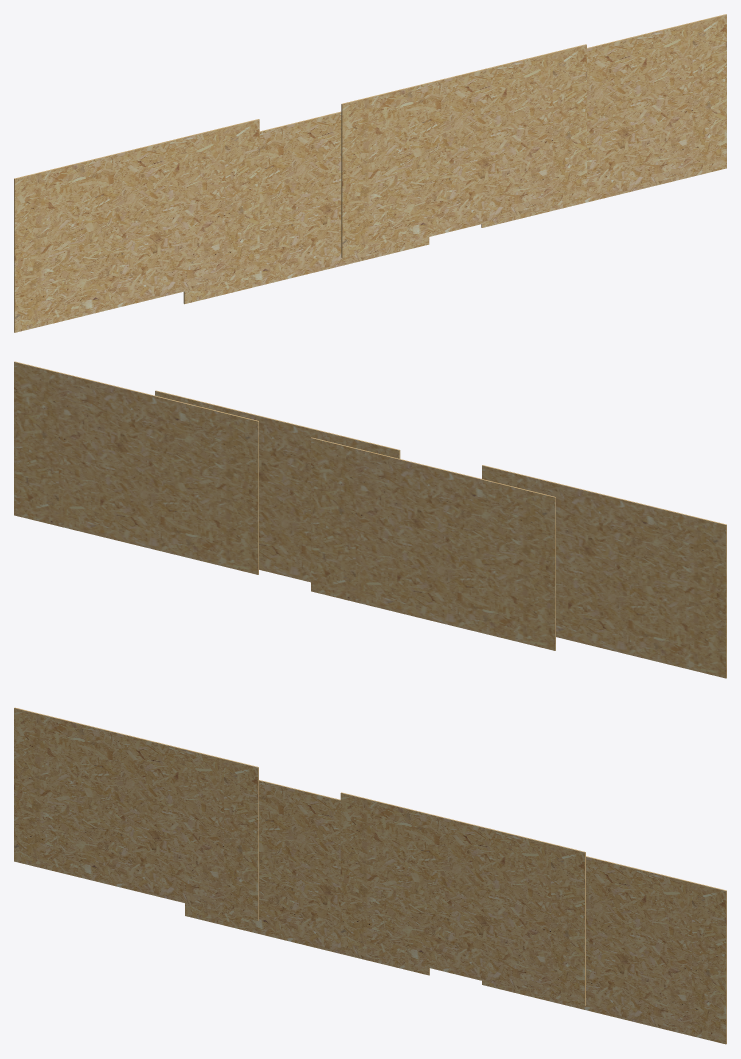
The model's file is LIELAk.glb.
3 renders of one model, top to bottom at view 1: azimuth 30°, elevation 25°; view 2: azimuth 150°, elevation 25°; view 3: azimuth 330°, elevation 25°, orthographic.
Visible parts, largest first — view 1: Cube.009, Cube.007, Cube.010, Cube.008; view 2: Cube.010, Cube.008, Cube.007, Cube.009; view 3: Cube.009, Cube.007, Cube.010, Cube.008.
Part boxes in pixels (x1,y1,x2,y2): Cube.009: (341, 44, 586, 257); Cube.007: (14, 119, 259, 332); Cube.010: (481, 14, 726, 227); Cube.008: (183, 111, 429, 304); Cube.010: (14, 361, 258, 574); Cube.008: (311, 437, 555, 650); Cube.007: (482, 465, 726, 678); Cube.009: (155, 390, 400, 582); Cube.009: (340, 792, 585, 1005); Cube.007: (14, 707, 258, 920); Cube.010: (482, 856, 726, 1044); Cube.008: (185, 780, 429, 975).
Size of the model in its own units: 8.13 by 1.82 by 0.0293.
4 materials, 4 textured.
